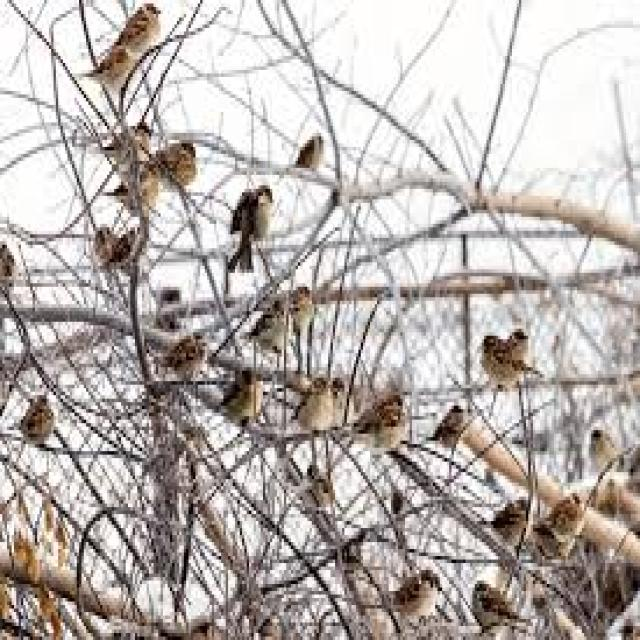bird: (348, 391, 408, 457), (231, 185, 274, 273), (477, 330, 542, 388), (216, 366, 260, 433), (379, 568, 438, 616), (110, 4, 166, 54), (470, 581, 525, 630), (292, 372, 333, 429), (82, 48, 134, 91), (12, 397, 54, 445)
